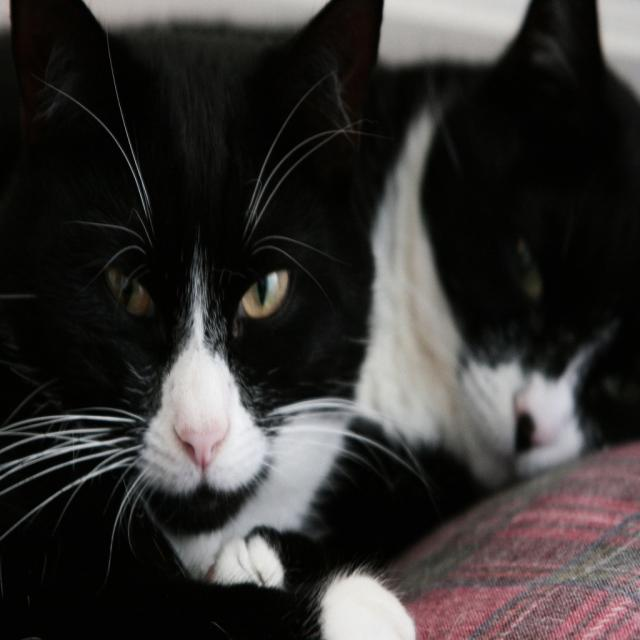Cat: (0, 0, 416, 638), (314, 0, 639, 569)
